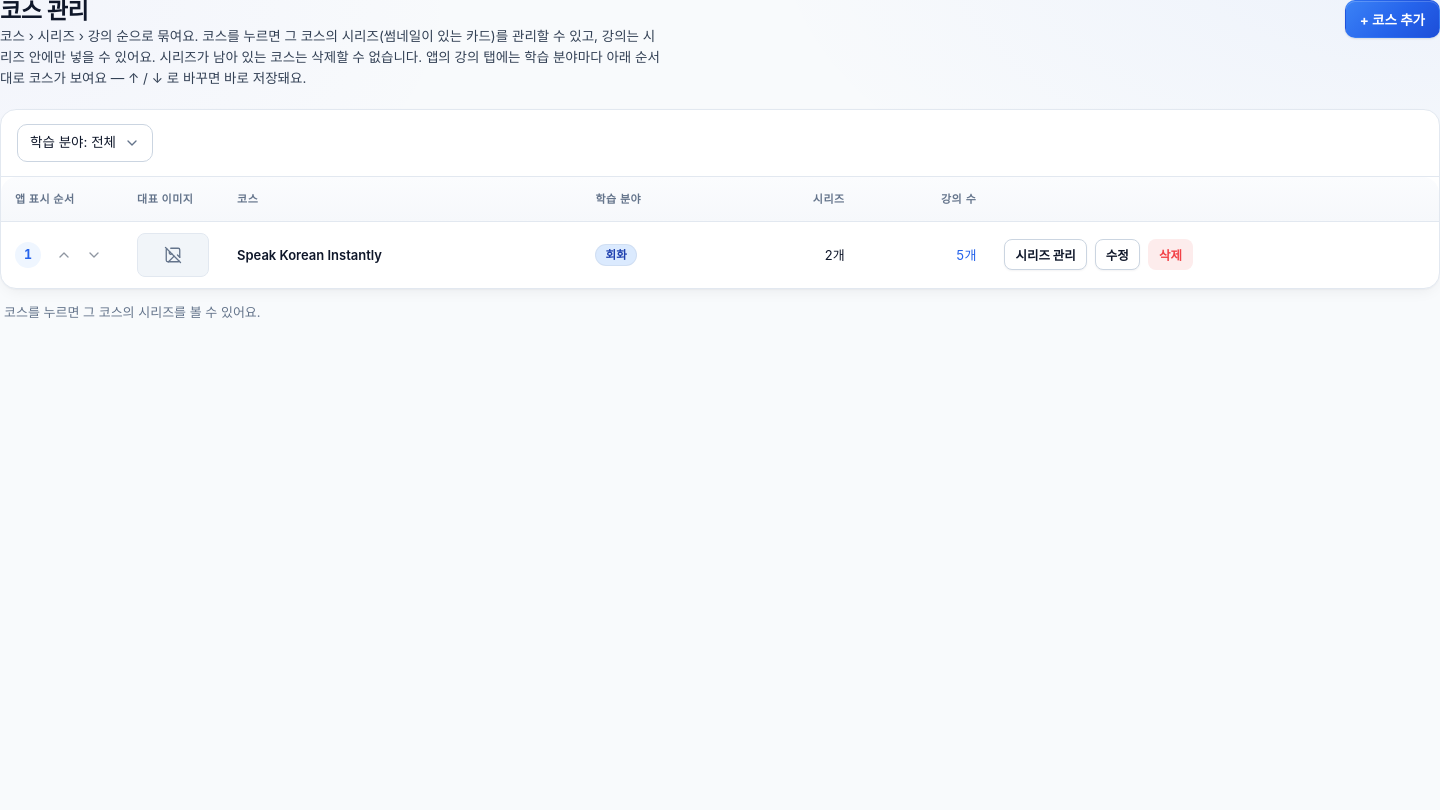
it: CoursesPage series › opens a course's series with their thumbnails and lesson counts
What coordinates should you click on to do the following:
click the text "Speak Korean Instantly"
I would click on:
 (310, 255)
Its box is [237,244,382,266].
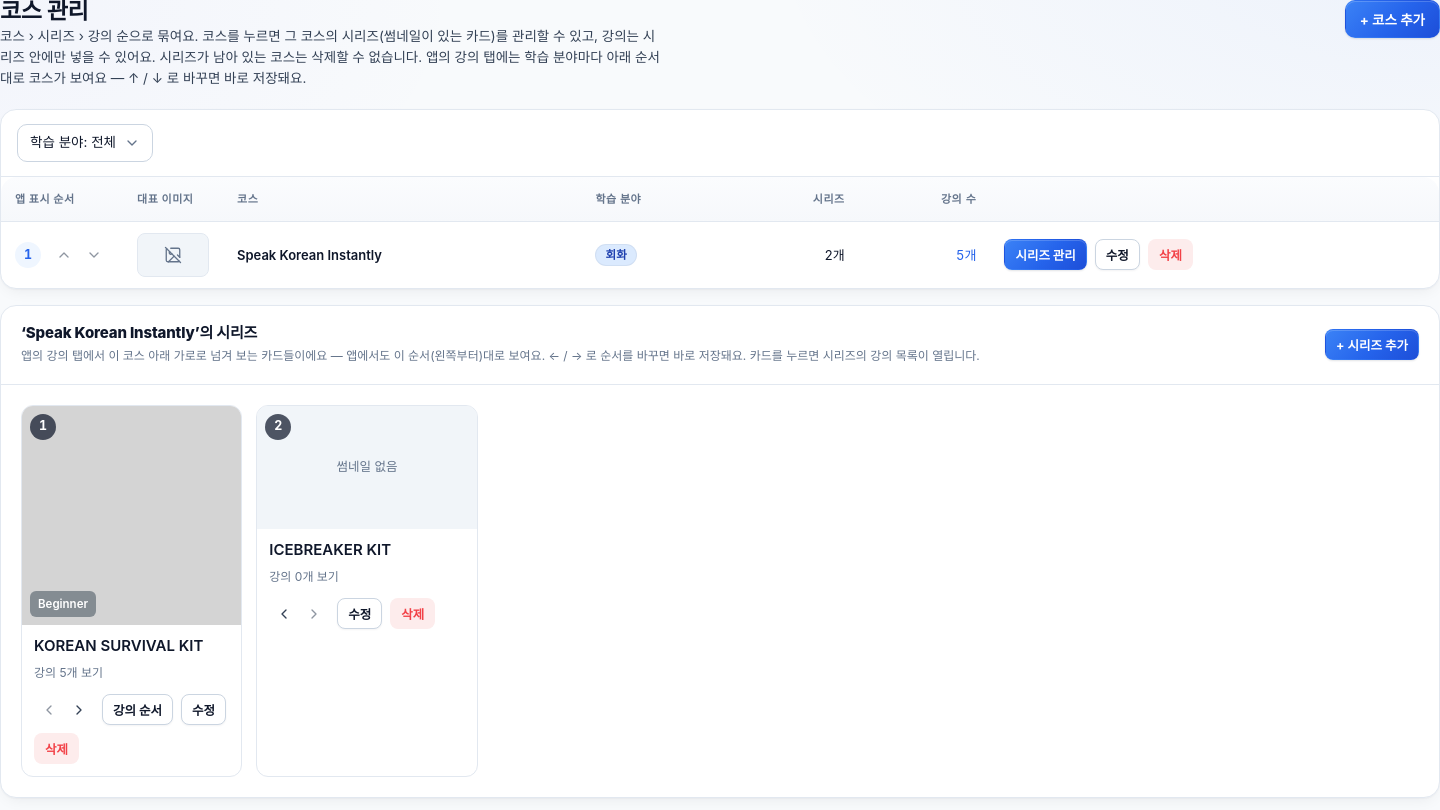
Result: the text "KOREAN SURVIVAL KIT" is shown at [34,635,203,657]
Result: the text "ICEBREAKER KIT" is shown at [269,539,391,561]
Result: the text "썸네일 없음" is shown at [336,456,398,478]
